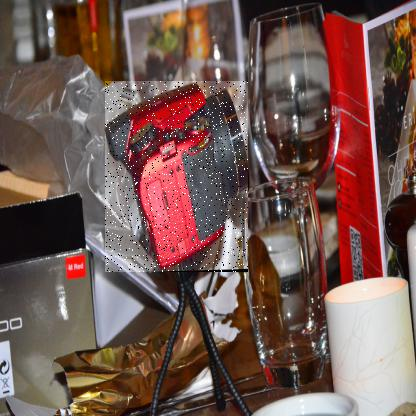Camera: (106, 82, 250, 274)
